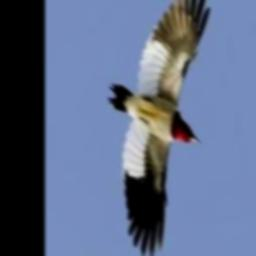Woodpecker: (108, 0, 209, 256)
